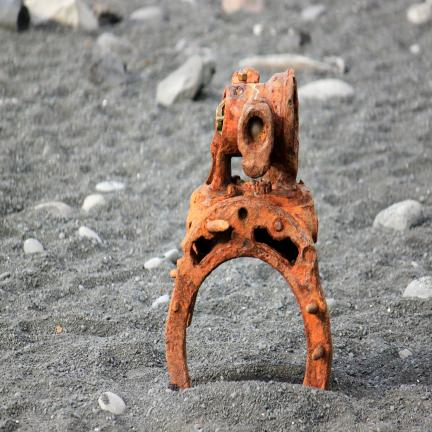karat: (166, 68, 332, 389)
